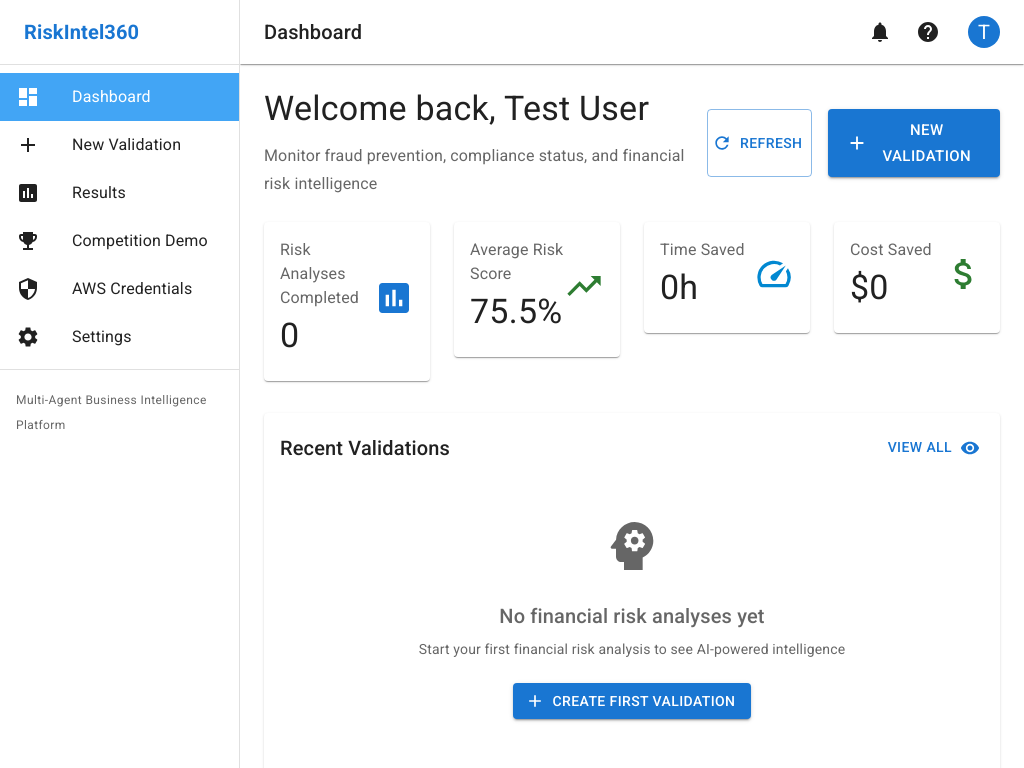
Test: Dashboard Navigation Integration Tests › should display user profile
expect the heading "Welcome back, Test User" is shown: met, box [264, 88, 707, 130]
Click to open profile menu
Step 1. Click the button named "account of current user" → {"x": 984, "y": 32}, box [956, 4, 1012, 60]
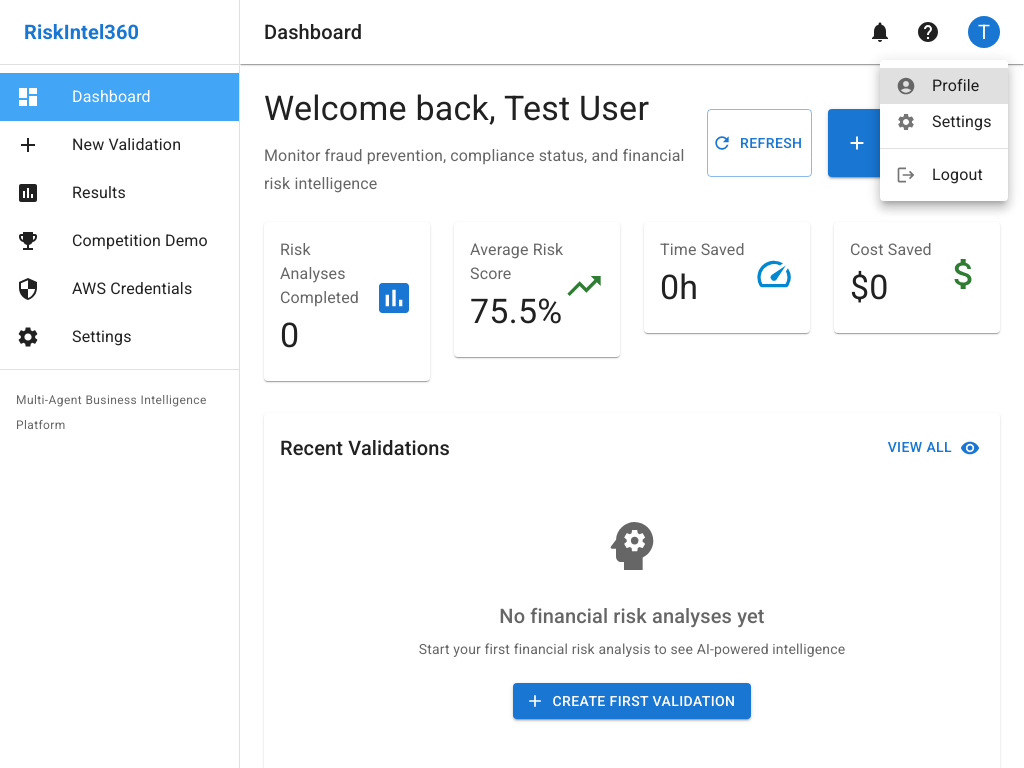
expect the menu item "Profile" is shown: met, box [880, 68, 1008, 104]
